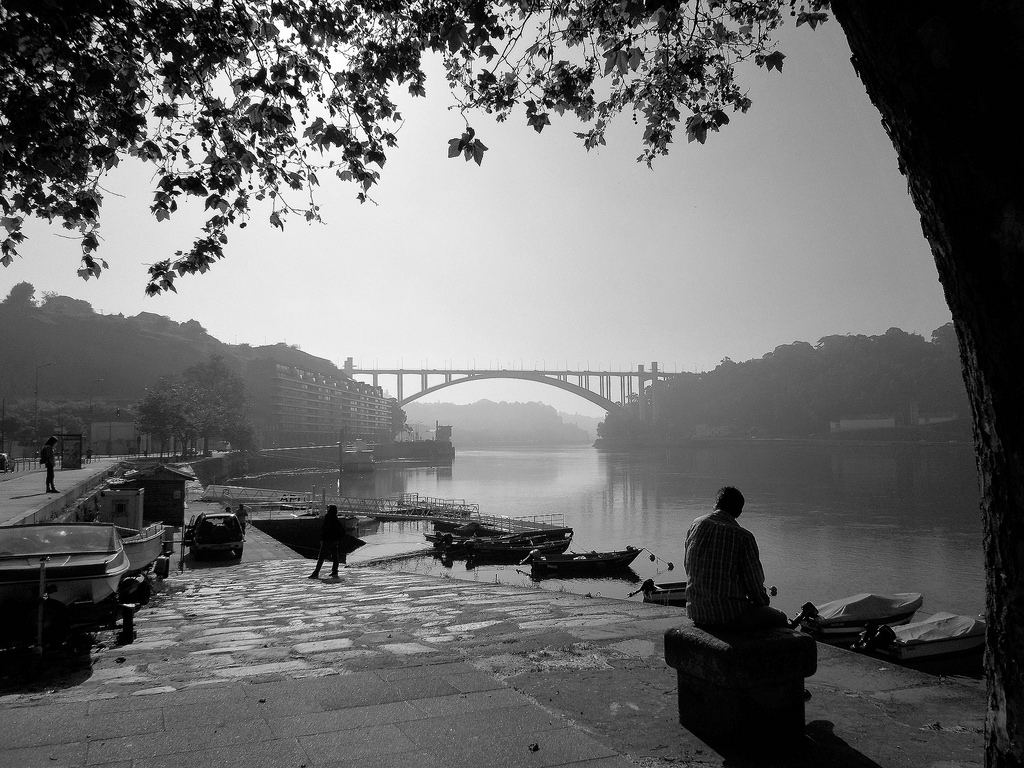arrabida: (332, 355, 705, 413)
